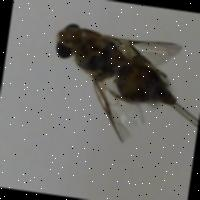Oriental-fruit-fly: (22, 9, 198, 154)
